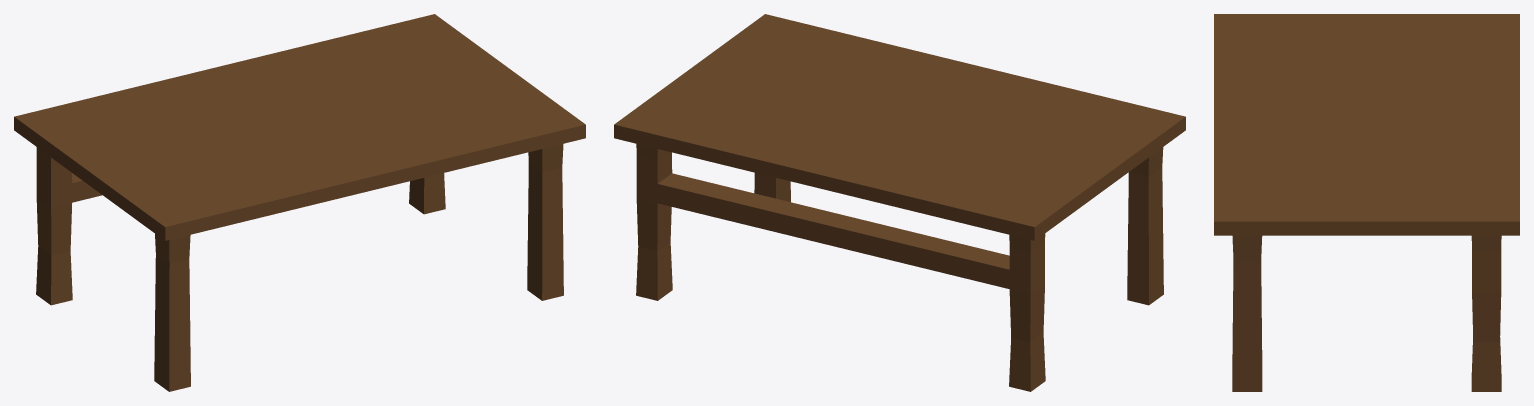
File: Desk.fbx
The picture shows the model from 3 angles, left to right: view 1: azimuth 30°, elevation 25°; view 2: azimuth 150°, elevation 25°; view 3: azimuth 270°, elevation 25°; orthographic projection.
Visible parts, largest first — view 1: Desk; view 2: Desk; view 3: Desk.
Boxes of the visible parts, <box> form: Desk: <box>14,14,585,391</box>; Desk: <box>614,14,1185,391</box>; Desk: <box>1214,14,1519,391</box>.
Bounding box in the file's own units: 1.85 × 0.7338 × 1.15.
